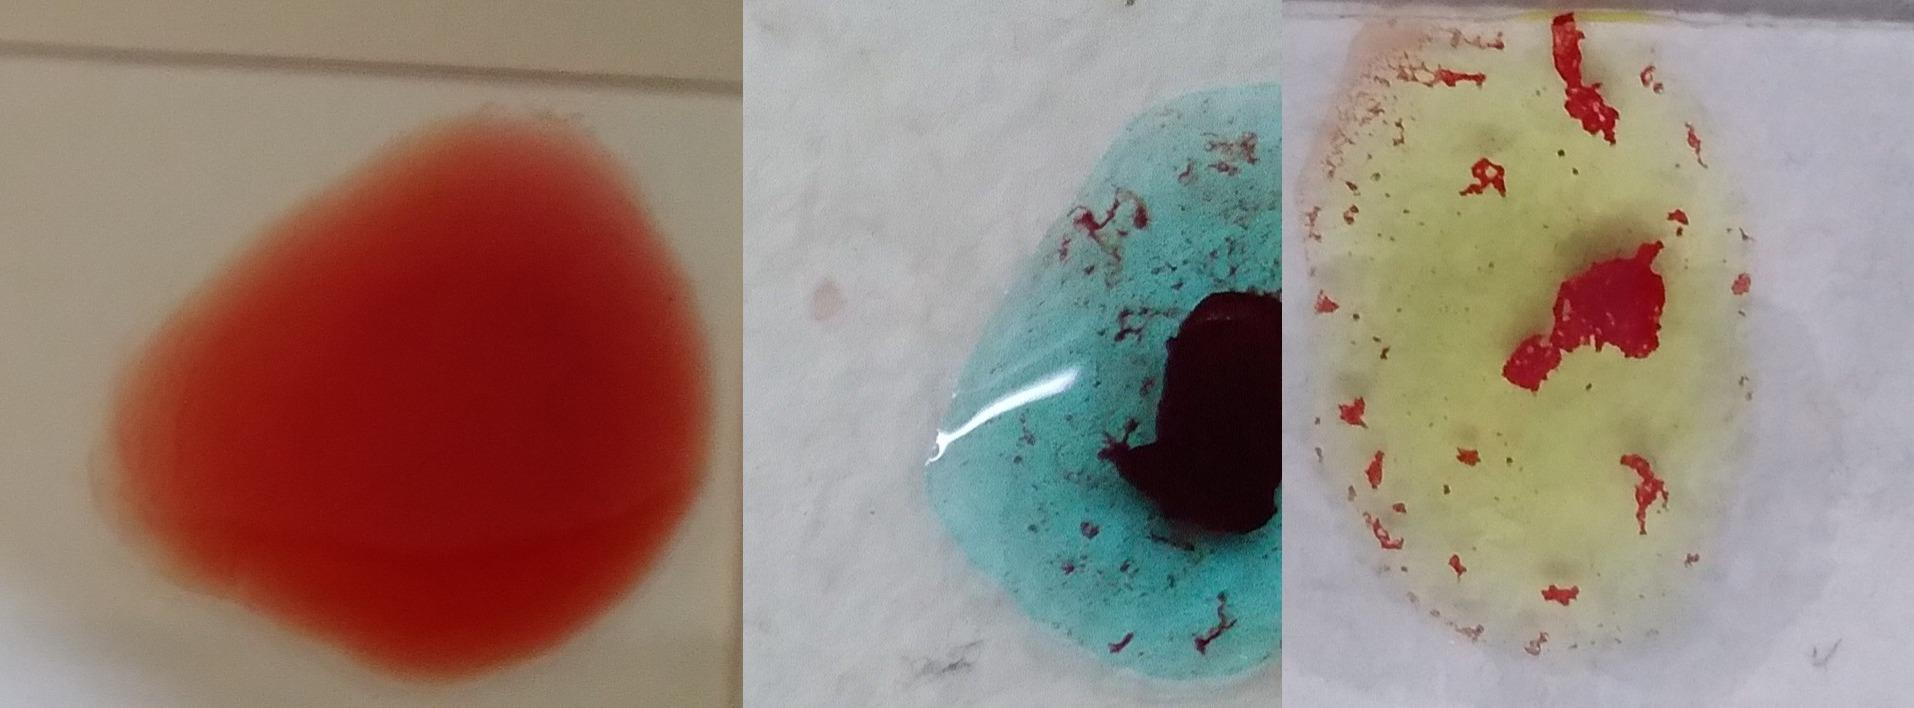A: (941, 70, 1276, 690)
B: (1309, 17, 1760, 665)
